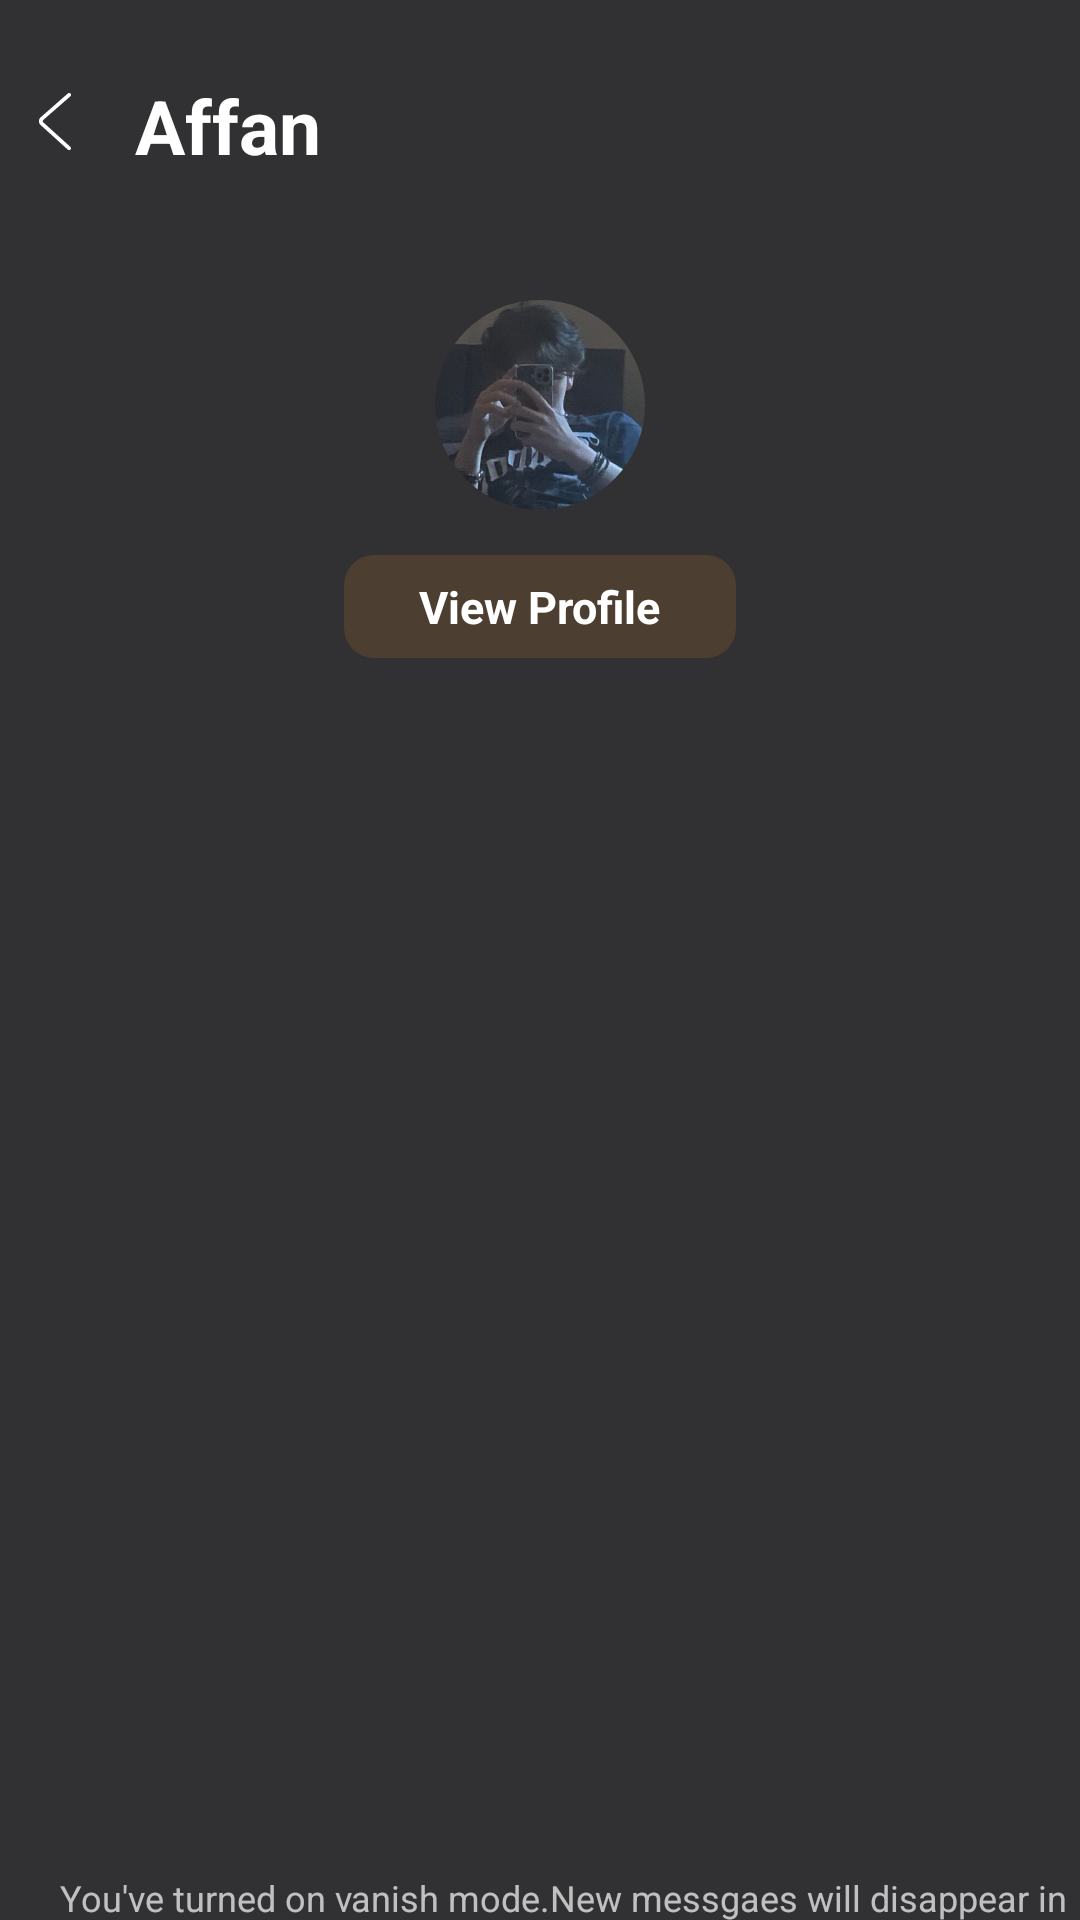

Icon bounding boxes for this 1080x1920 phone screenshot, format [x1, y1, x2, y2]:
back: [39, 93, 71, 150]
